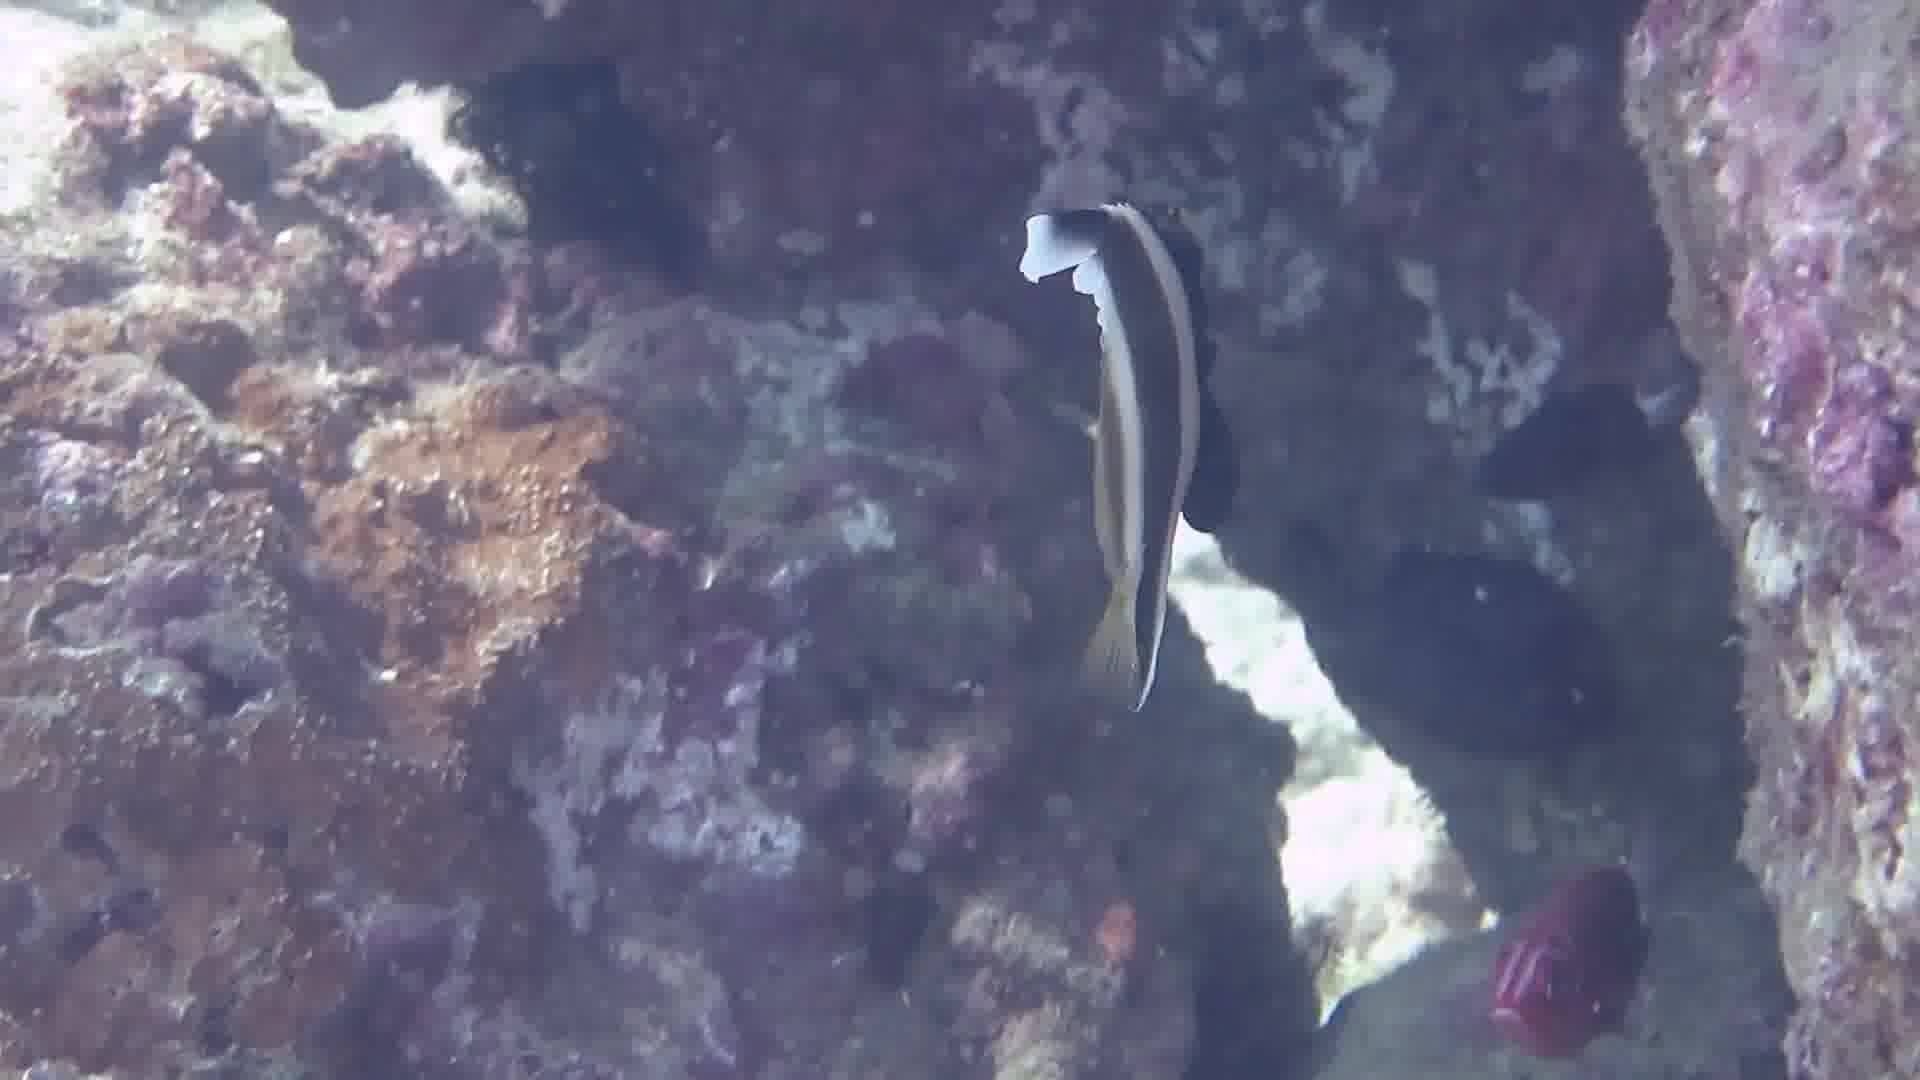Heniochus chrysostomus: (848, 112, 1493, 702)
